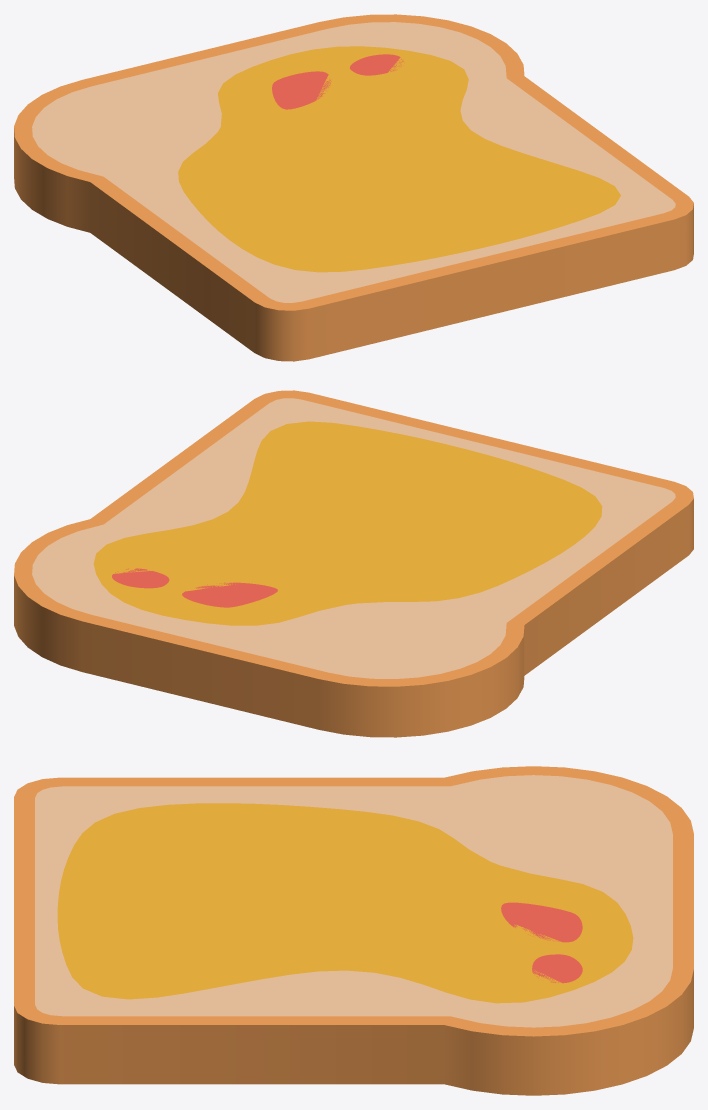
Rendered from Bread M.fbx.
3 renders of one model, top to bottom at view 1: azimuth 30°, elevation 25°; view 2: azimuth 150°, elevation 25°; view 3: azimuth 270°, elevation 25°, orthographic. The views are drawn at different scales.
Parts seen in each view (by area): view 1: Bread M; view 2: Bread M; view 3: Bread M.
Part boxes in pixels (x1,y1,x2,y2): Bread M: (14,14,693,361); Bread M: (14,390,693,737); Bread M: (14,766,693,1095).
Size of the model in its own units: 0.6767 by 0.0692 by 0.7193.
